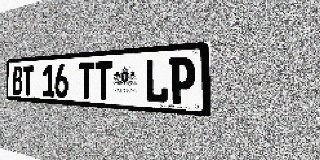1: (42, 64, 55, 97)
6: (55, 63, 68, 98)
B: (12, 66, 23, 95)
L: (145, 58, 168, 104)
P: (169, 56, 195, 105)
T: (95, 61, 112, 100), (78, 62, 94, 99), (22, 65, 33, 96)
